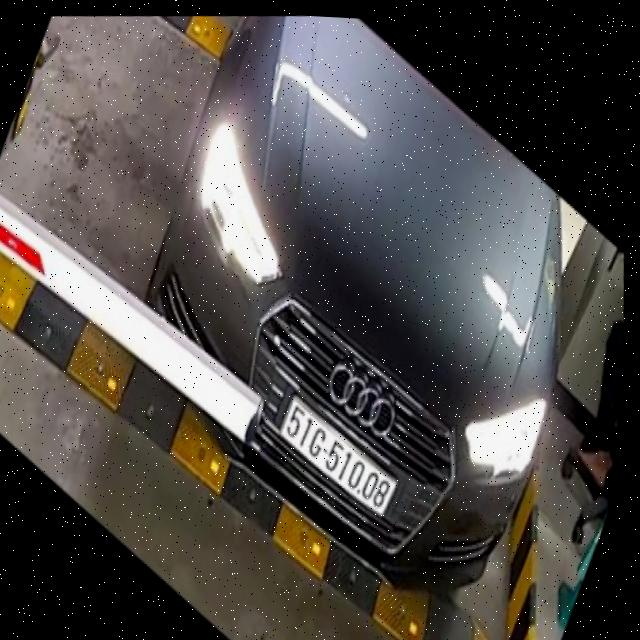car: (109, 7, 596, 619)
plate: (270, 385, 407, 526)
